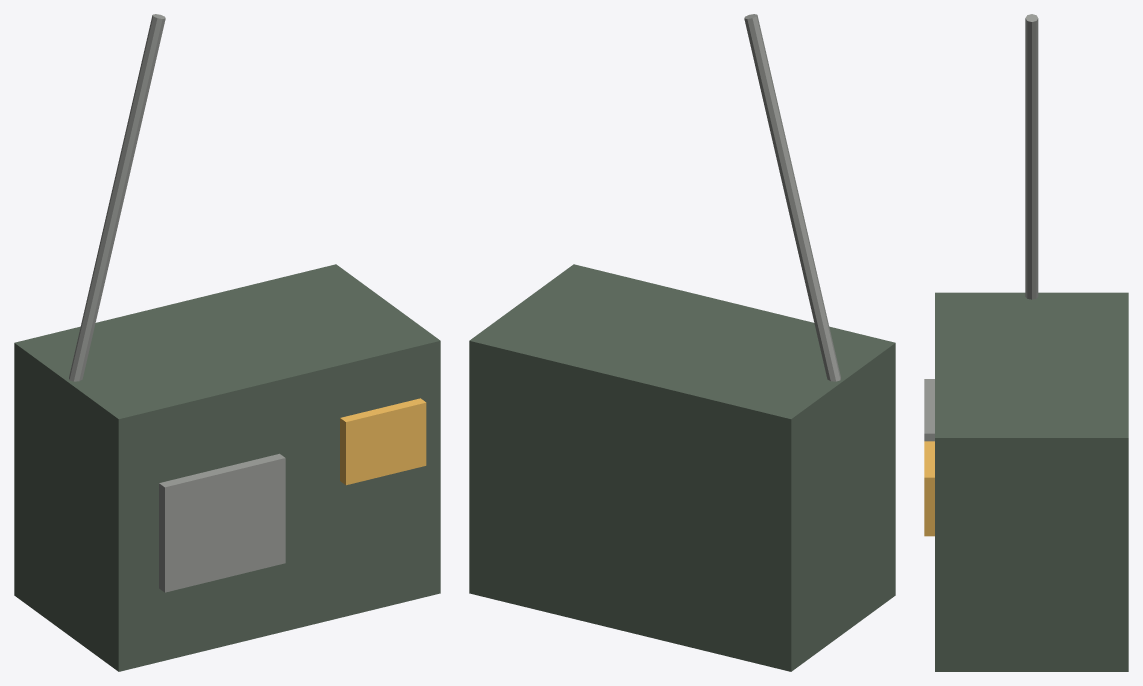
The model's file is radio.glb.
3 views of the same model, side by side, from view 1: azimuth 30°, elevation 25°; view 2: azimuth 150°, elevation 25°; view 3: azimuth 270°, elevation 25° (orthographic). The views are drawn at different scales.
Parts seen in each view (by area): view 1: RadioBody, RadioGrill, RadioDial, RadioAntenna; view 2: RadioBody, RadioAntenna; view 3: RadioBody, RadioAntenna, RadioDial, RadioGrill.
Part boxes in pixels (x1,y1,x2,y2): RadioBody: (14, 264, 440, 671); RadioGrill: (159, 453, 285, 592); RadioDial: (340, 398, 426, 485); RadioAntenna: (69, 14, 165, 381); RadioBody: (469, 264, 895, 671); RadioAntenna: (744, 14, 840, 381); RadioBody: (935, 292, 1128, 671); RadioAntenna: (1025, 14, 1038, 299); RadioDial: (924, 441, 934, 536); RadioGrill: (924, 379, 934, 441).
Bounding box in the file's own units: 0.32 × 0.5662 × 0.19.
